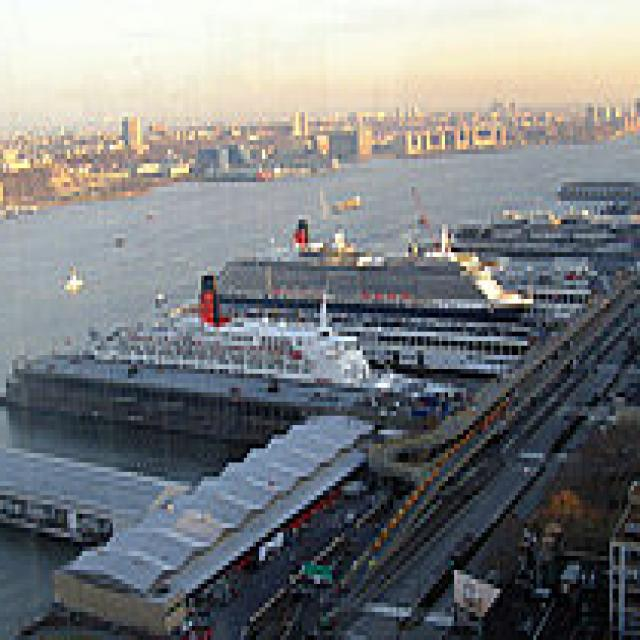Cruise: (67, 266, 469, 392), (208, 210, 540, 313)
